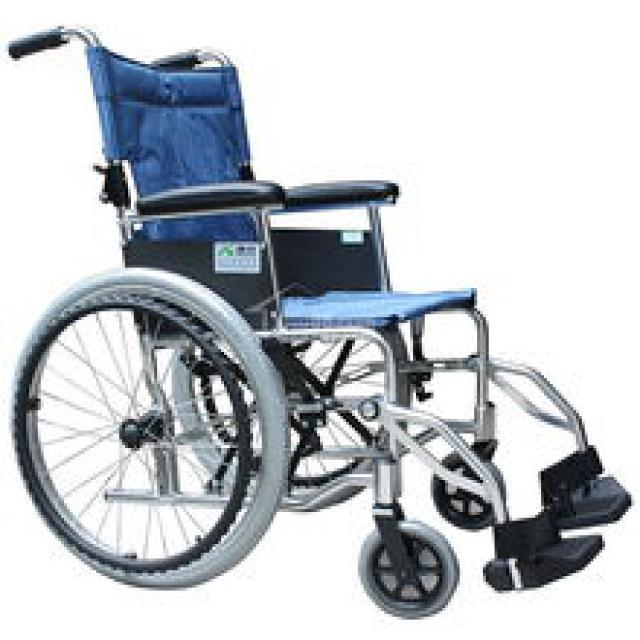wheelchairs: (6, 24, 631, 617)
